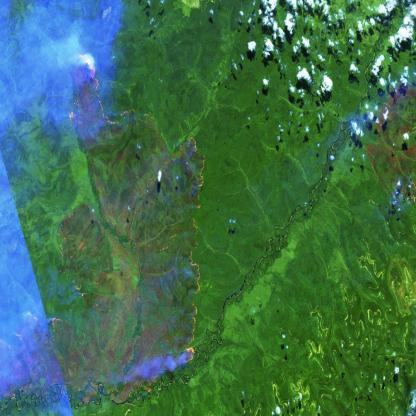fire: (67, 48, 153, 143), (179, 214, 203, 373), (187, 130, 211, 209)
